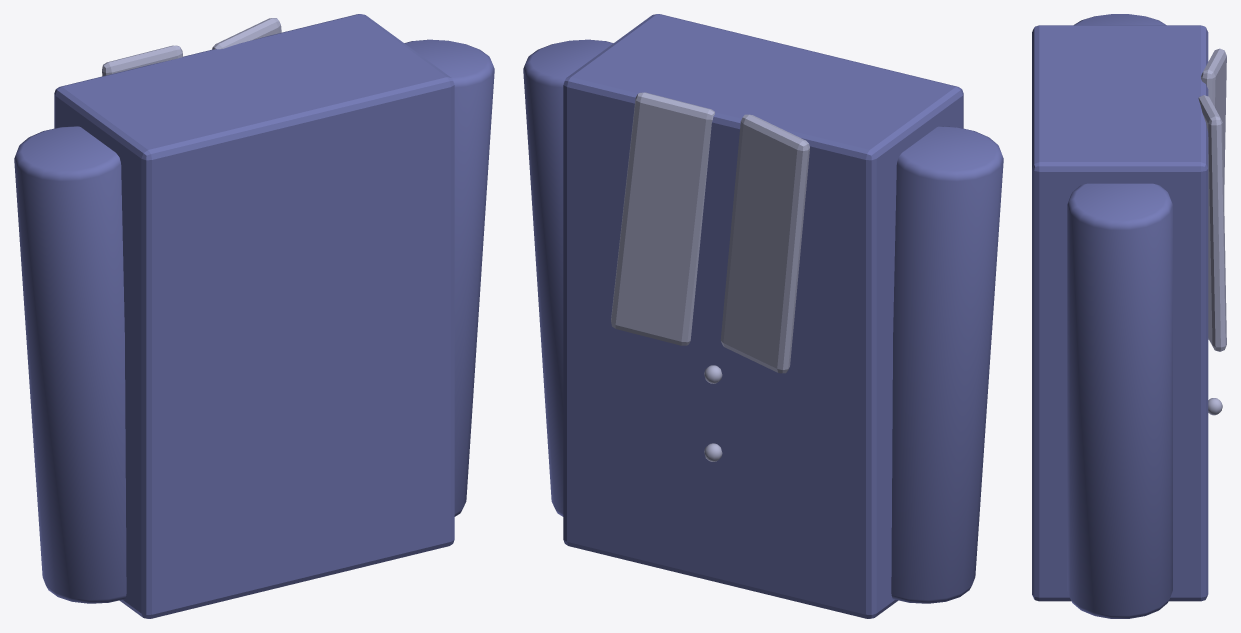
File: VM-CAB-8820.glb
The picture shows the model from 3 angles, left to right: view 1: azimuth 30°, elevation 25°; view 2: azimuth 150°, elevation 25°; view 3: azimuth 270°, elevation 25°; orthographic projection. The views are drawn at different scales.
Parts seen in each view (by area): view 1: Blazer Índigo Desestructurado; view 2: Blazer Índigo Desestructurado; view 3: Blazer Índigo Desestructurado.
Boxes of the visible parts, bbox=[...] form: Blazer Índigo Desestructurado: bbox=[14, 14, 494, 618]; Blazer Índigo Desestructurado: bbox=[523, 14, 1003, 618]; Blazer Índigo Desestructurado: bbox=[1032, 14, 1226, 618].
Bounding box in the file's own units: 0.6873 × 0.6777 × 0.2671.
